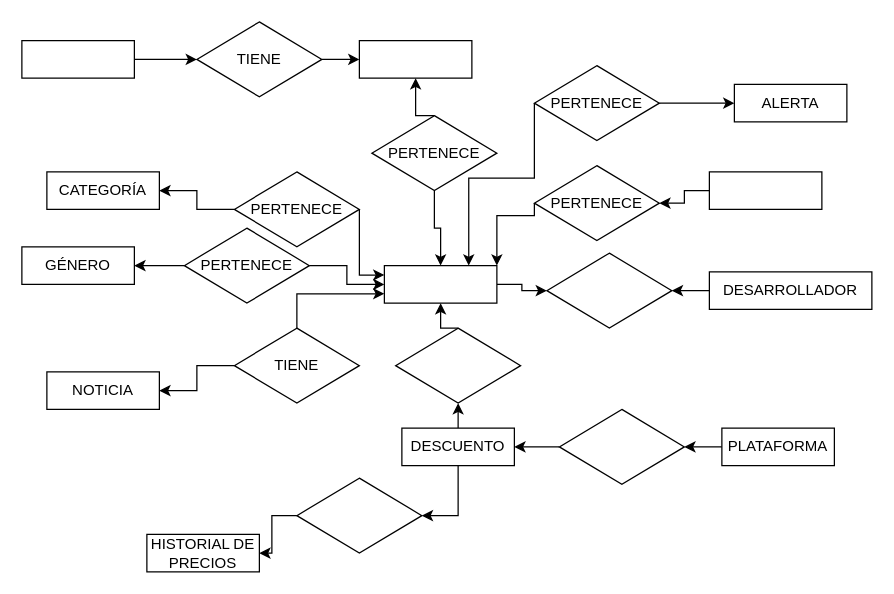
This 894x594 diagram has some shape labels left out. The shapes that lost their labels are listed below. From the top down, each one's centre as x and y in pixels, then its label:
At pixel 77 58: "USUARIO".
At pixel 415 58: "WISHLIST".
At pixel 765 190: "RESEÑA".
At pixel 440 283: "JUEGO".
At pixel 609 290: "DESARROLLA".
At pixel 457 365: "SE APLICA".
At pixel 621 446: "PONE".
At pixel 359 515: "SE REGISTRA".
